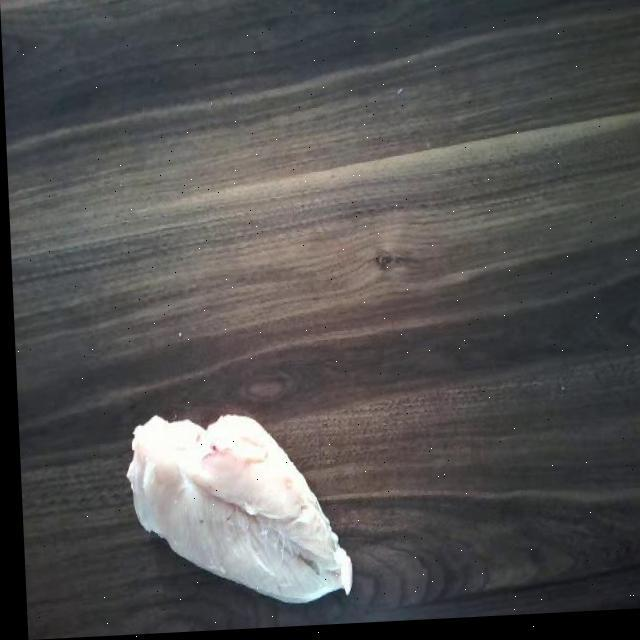breast: (123, 398, 355, 620)
